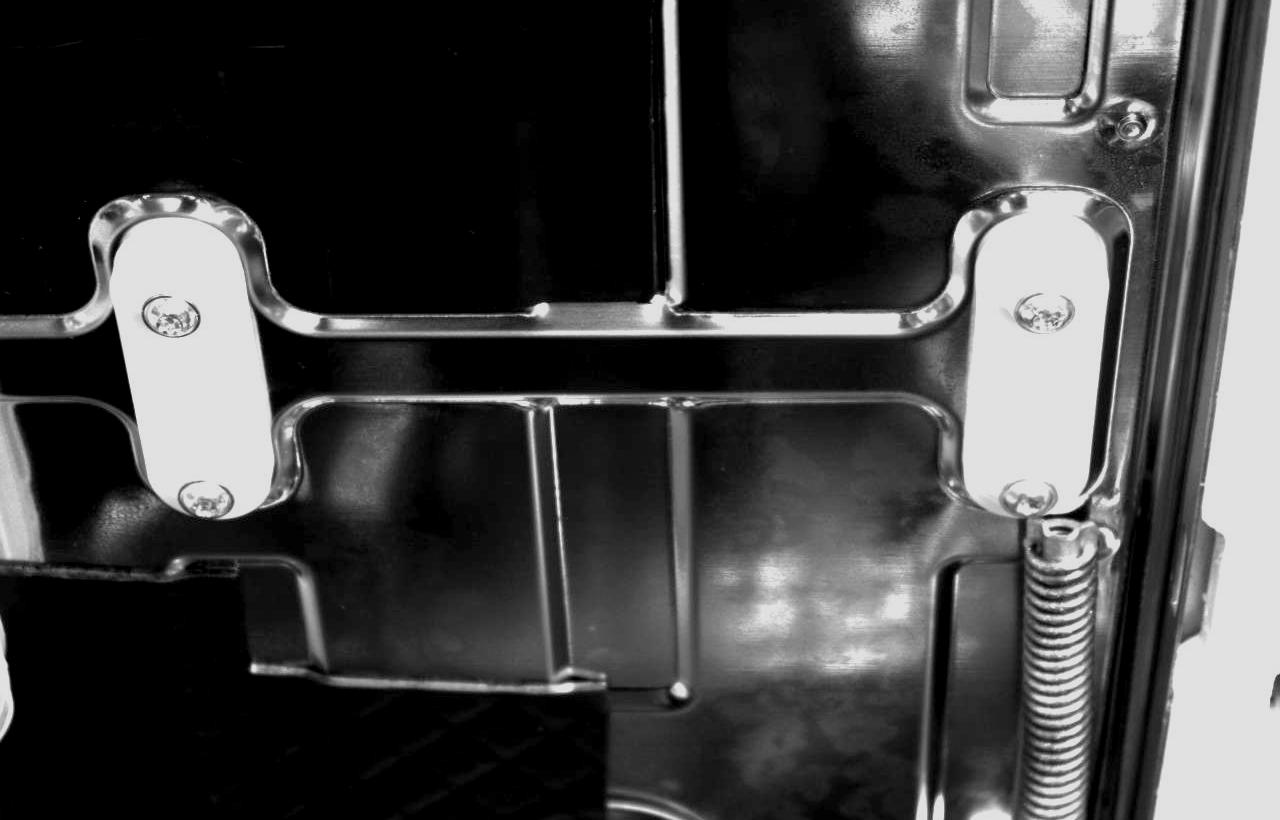vida-ok: (134, 276, 221, 353), (997, 271, 1085, 344), (168, 461, 249, 525), (988, 465, 1064, 523)
